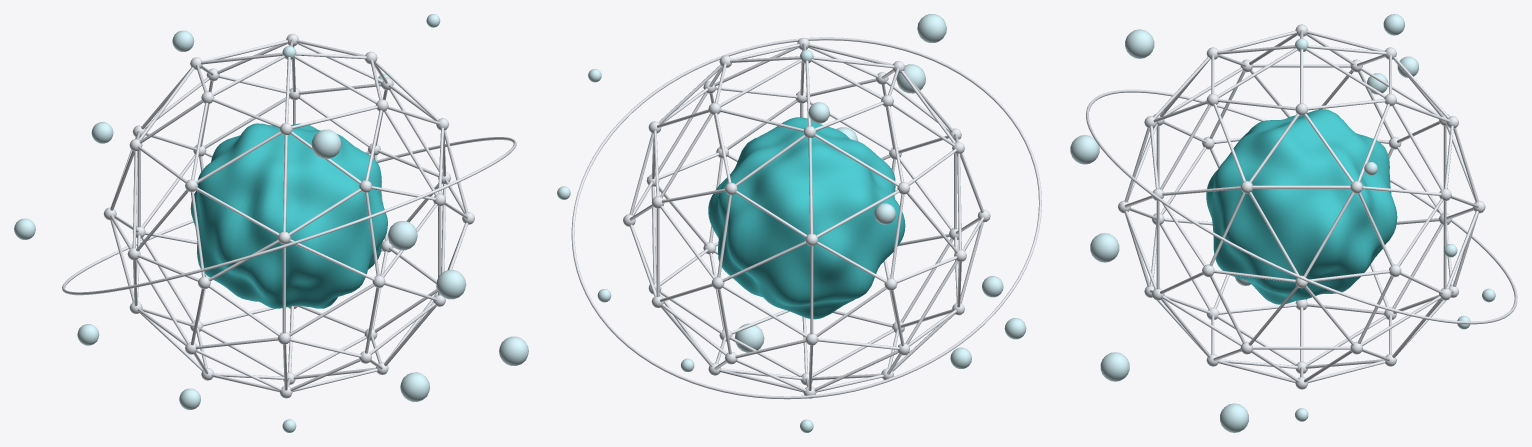
The model's file is edition-01-nano.glb.
3 renders of one model, left to right at view 1: azimuth 30°, elevation 25°; view 2: azimuth 150°, elevation 25°; view 3: azimuth 270°, elevation 25°, orthographic.
Parts seen in each view (by area): view 1: Nano_Cage, Nano_Core, Nano_Satellites; view 2: Nano_Cage, Nano_Core, Nano_Satellites; view 3: Nano_Cage, Nano_Core, Nano_Satellites.
Part boxes in pixels (left/top/right/bottom): Nano_Cage: left=62, top=33, right=516, bottom=398; Nano_Core: left=190, top=123, right=387, bottom=308; Nano_Satellites: left=14, top=14, right=528, bottom=432; Nano_Cage: left=571, top=37, right=1041, bottom=399; Nano_Core: left=708, top=117, right=905, bottom=319; Nano_Satellites: left=557, top=14, right=1026, bottom=432; Nano_Cage: left=1086, top=24, right=1517, bottom=389; Nano_Core: left=1206, top=109, right=1397, bottom=304; Nano_Satellites: left=1070, top=14, right=1495, bottom=432.
Bounding box in the file's own units: 4.03 × 3.37 × 3.58.
